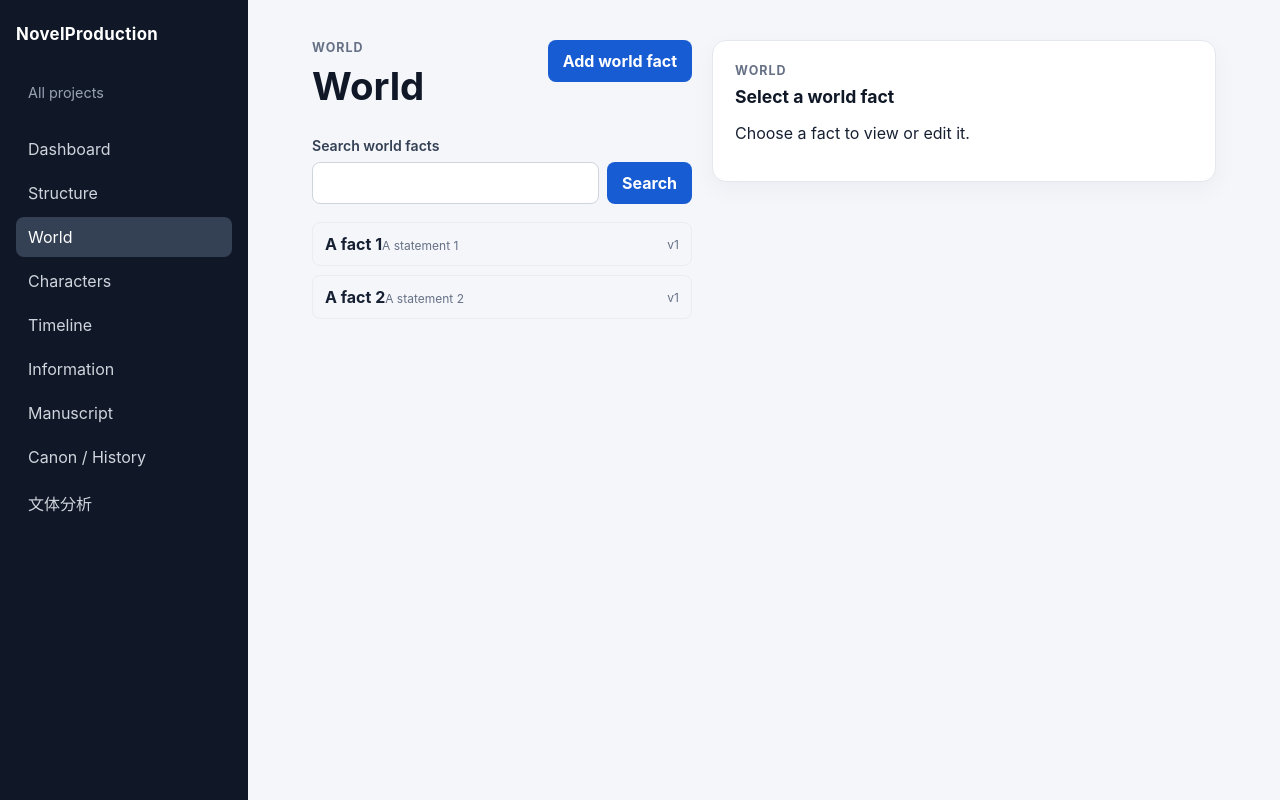
Test: D3 world flows › browses, searches, and preserves the project-scoped sidebar links
Expected: the heading "World" is shown, [312, 63, 424, 109]
Expected: the text "A fact 1" is shown, [325, 234, 382, 254]
In the search field labelled "Search world facts": (456,183) [312, 162, 599, 204], type "火山"
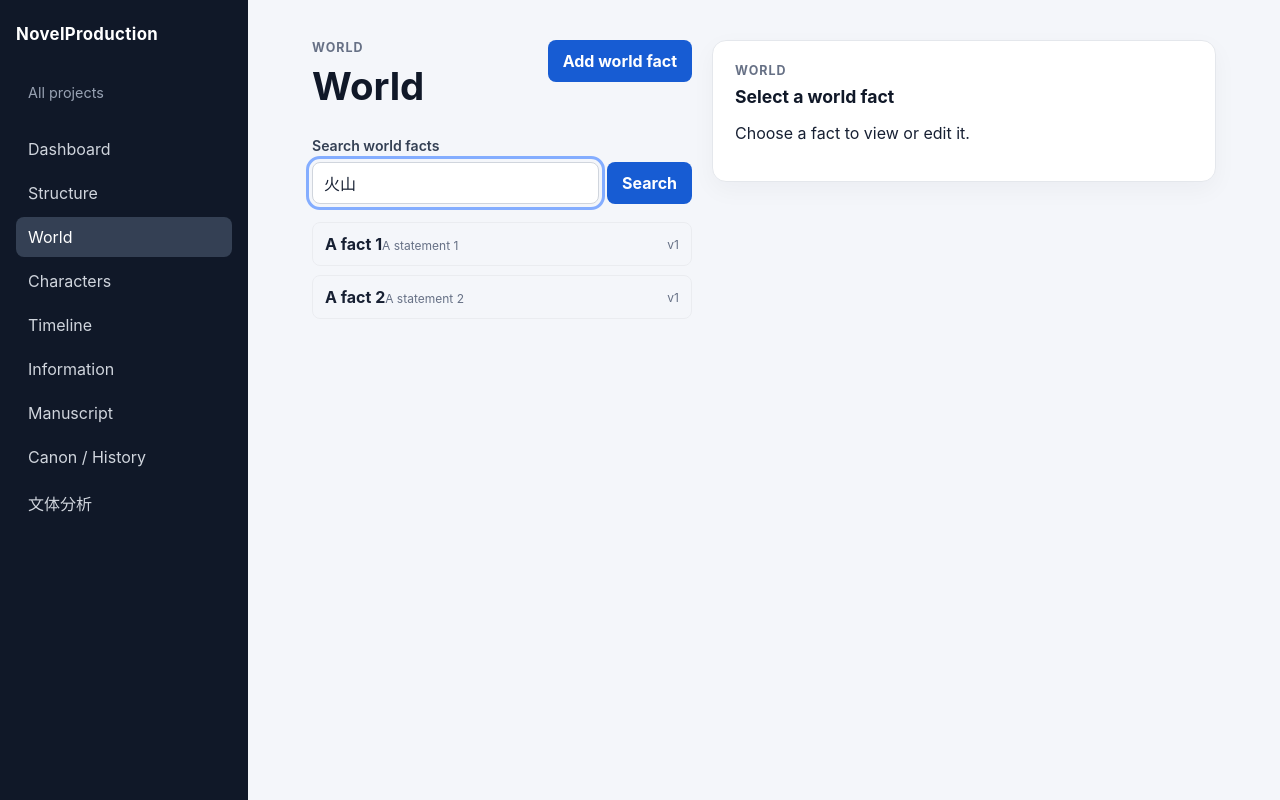
Click the button "Search": (650,183) [607, 162, 692, 204]
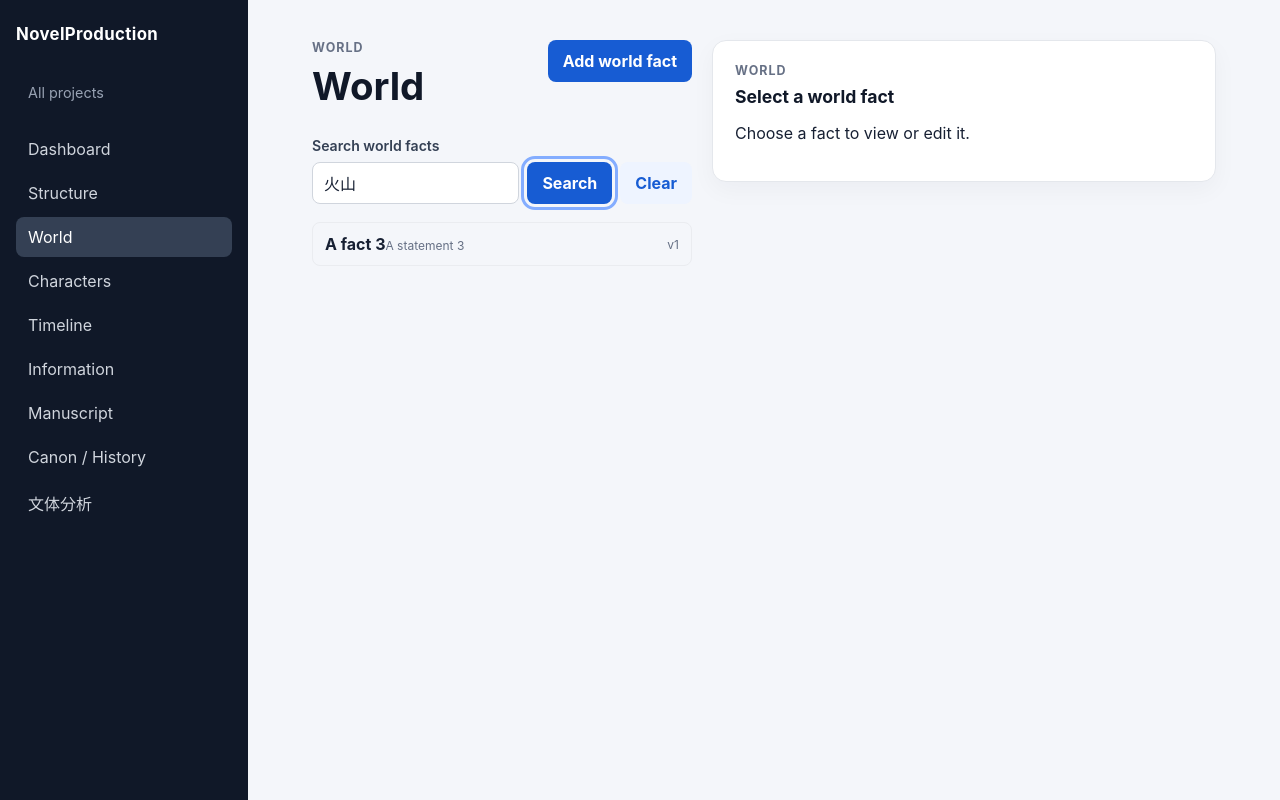
Expected: the text "A fact 3" is shown, [325, 234, 386, 254]
